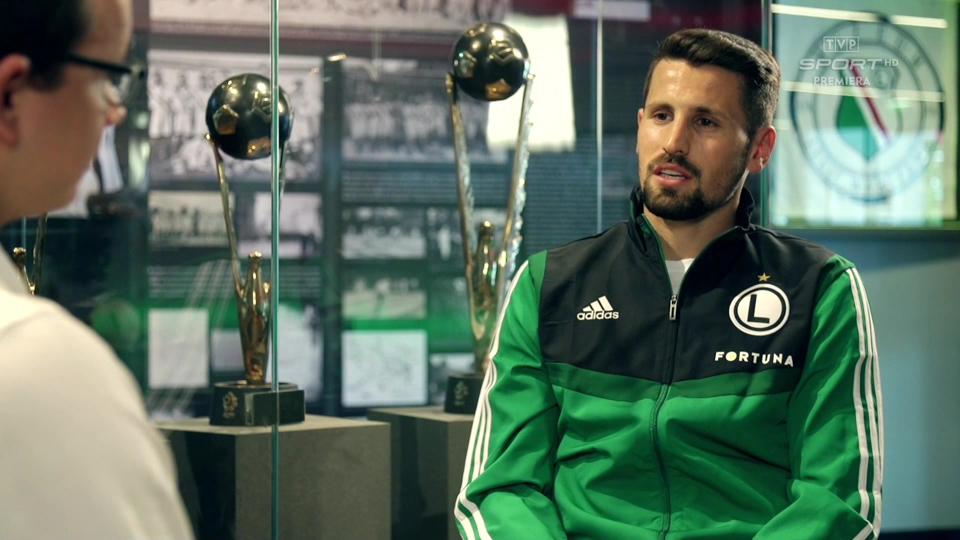Adidas: (576, 293, 621, 322)
